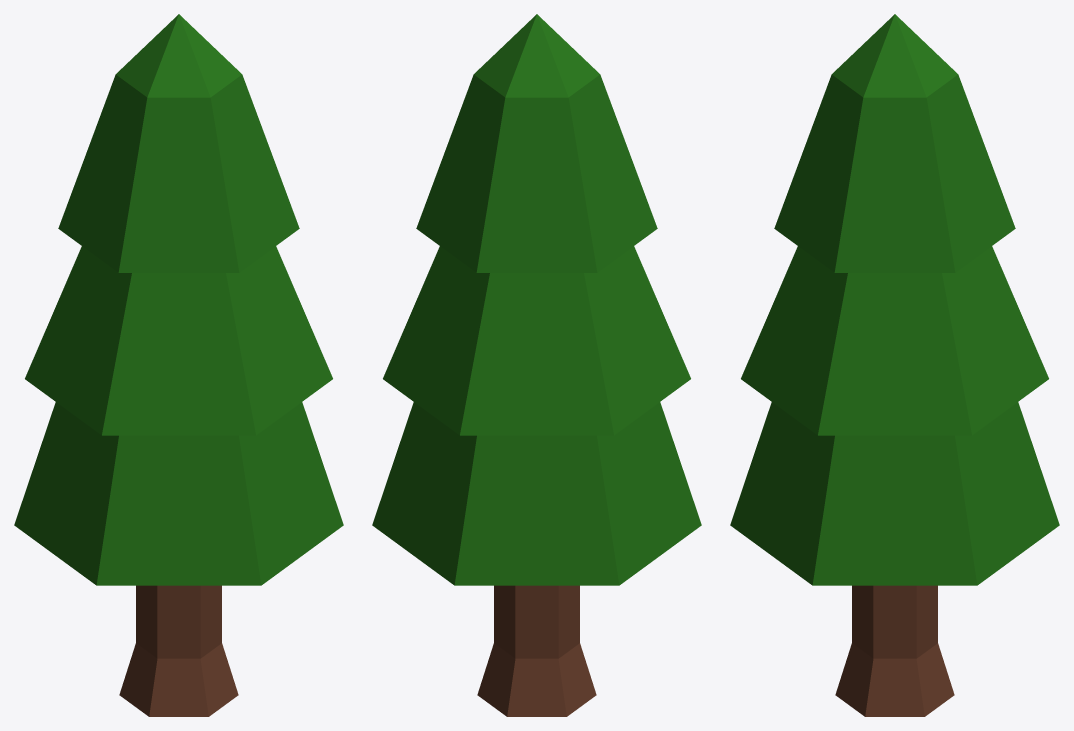
The model's file is tree.fbx.
3 renders of one model, left to right at view 1: azimuth 30°, elevation 25°; view 2: azimuth 150°, elevation 25°; view 3: azimuth 270°, elevation 25°, orthographic.
Parts seen in each view (by area): view 1: pine_tree; view 2: pine_tree; view 3: pine_tree.
Part boxes in pixels (box(x1,y1,x2,y2)): pine_tree: box(14, 14, 343, 716); pine_tree: box(372, 14, 701, 716); pine_tree: box(730, 14, 1059, 716).
Bounding box in the file's own units: 246 × 647 × 284.
